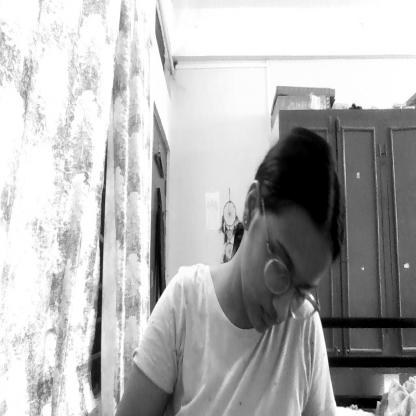Distracted: (236, 131, 332, 337)
